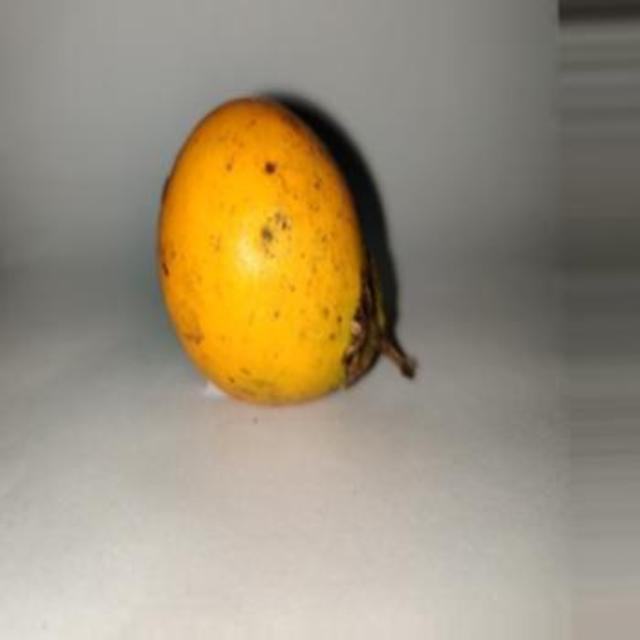good: (155, 97, 393, 410)
